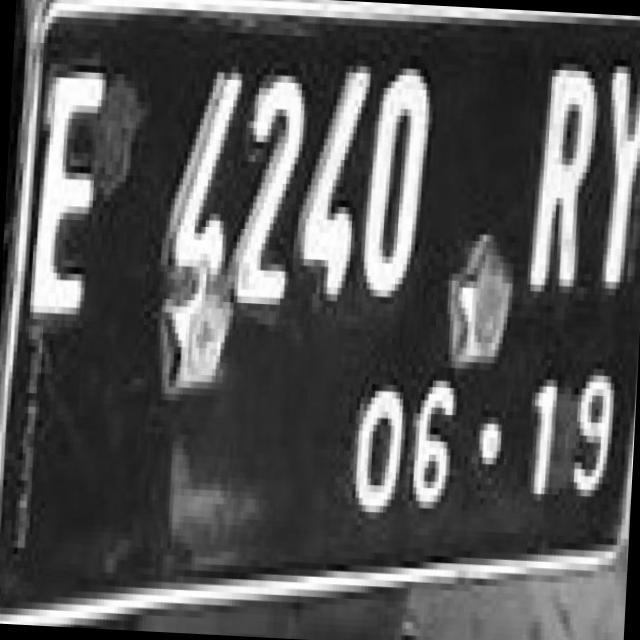0: (360, 69, 430, 294)
2: (246, 70, 302, 322)
4: (167, 69, 245, 330), (303, 65, 368, 301)
E: (19, 61, 127, 334)
R: (534, 53, 598, 290)
Y: (590, 57, 640, 299)
